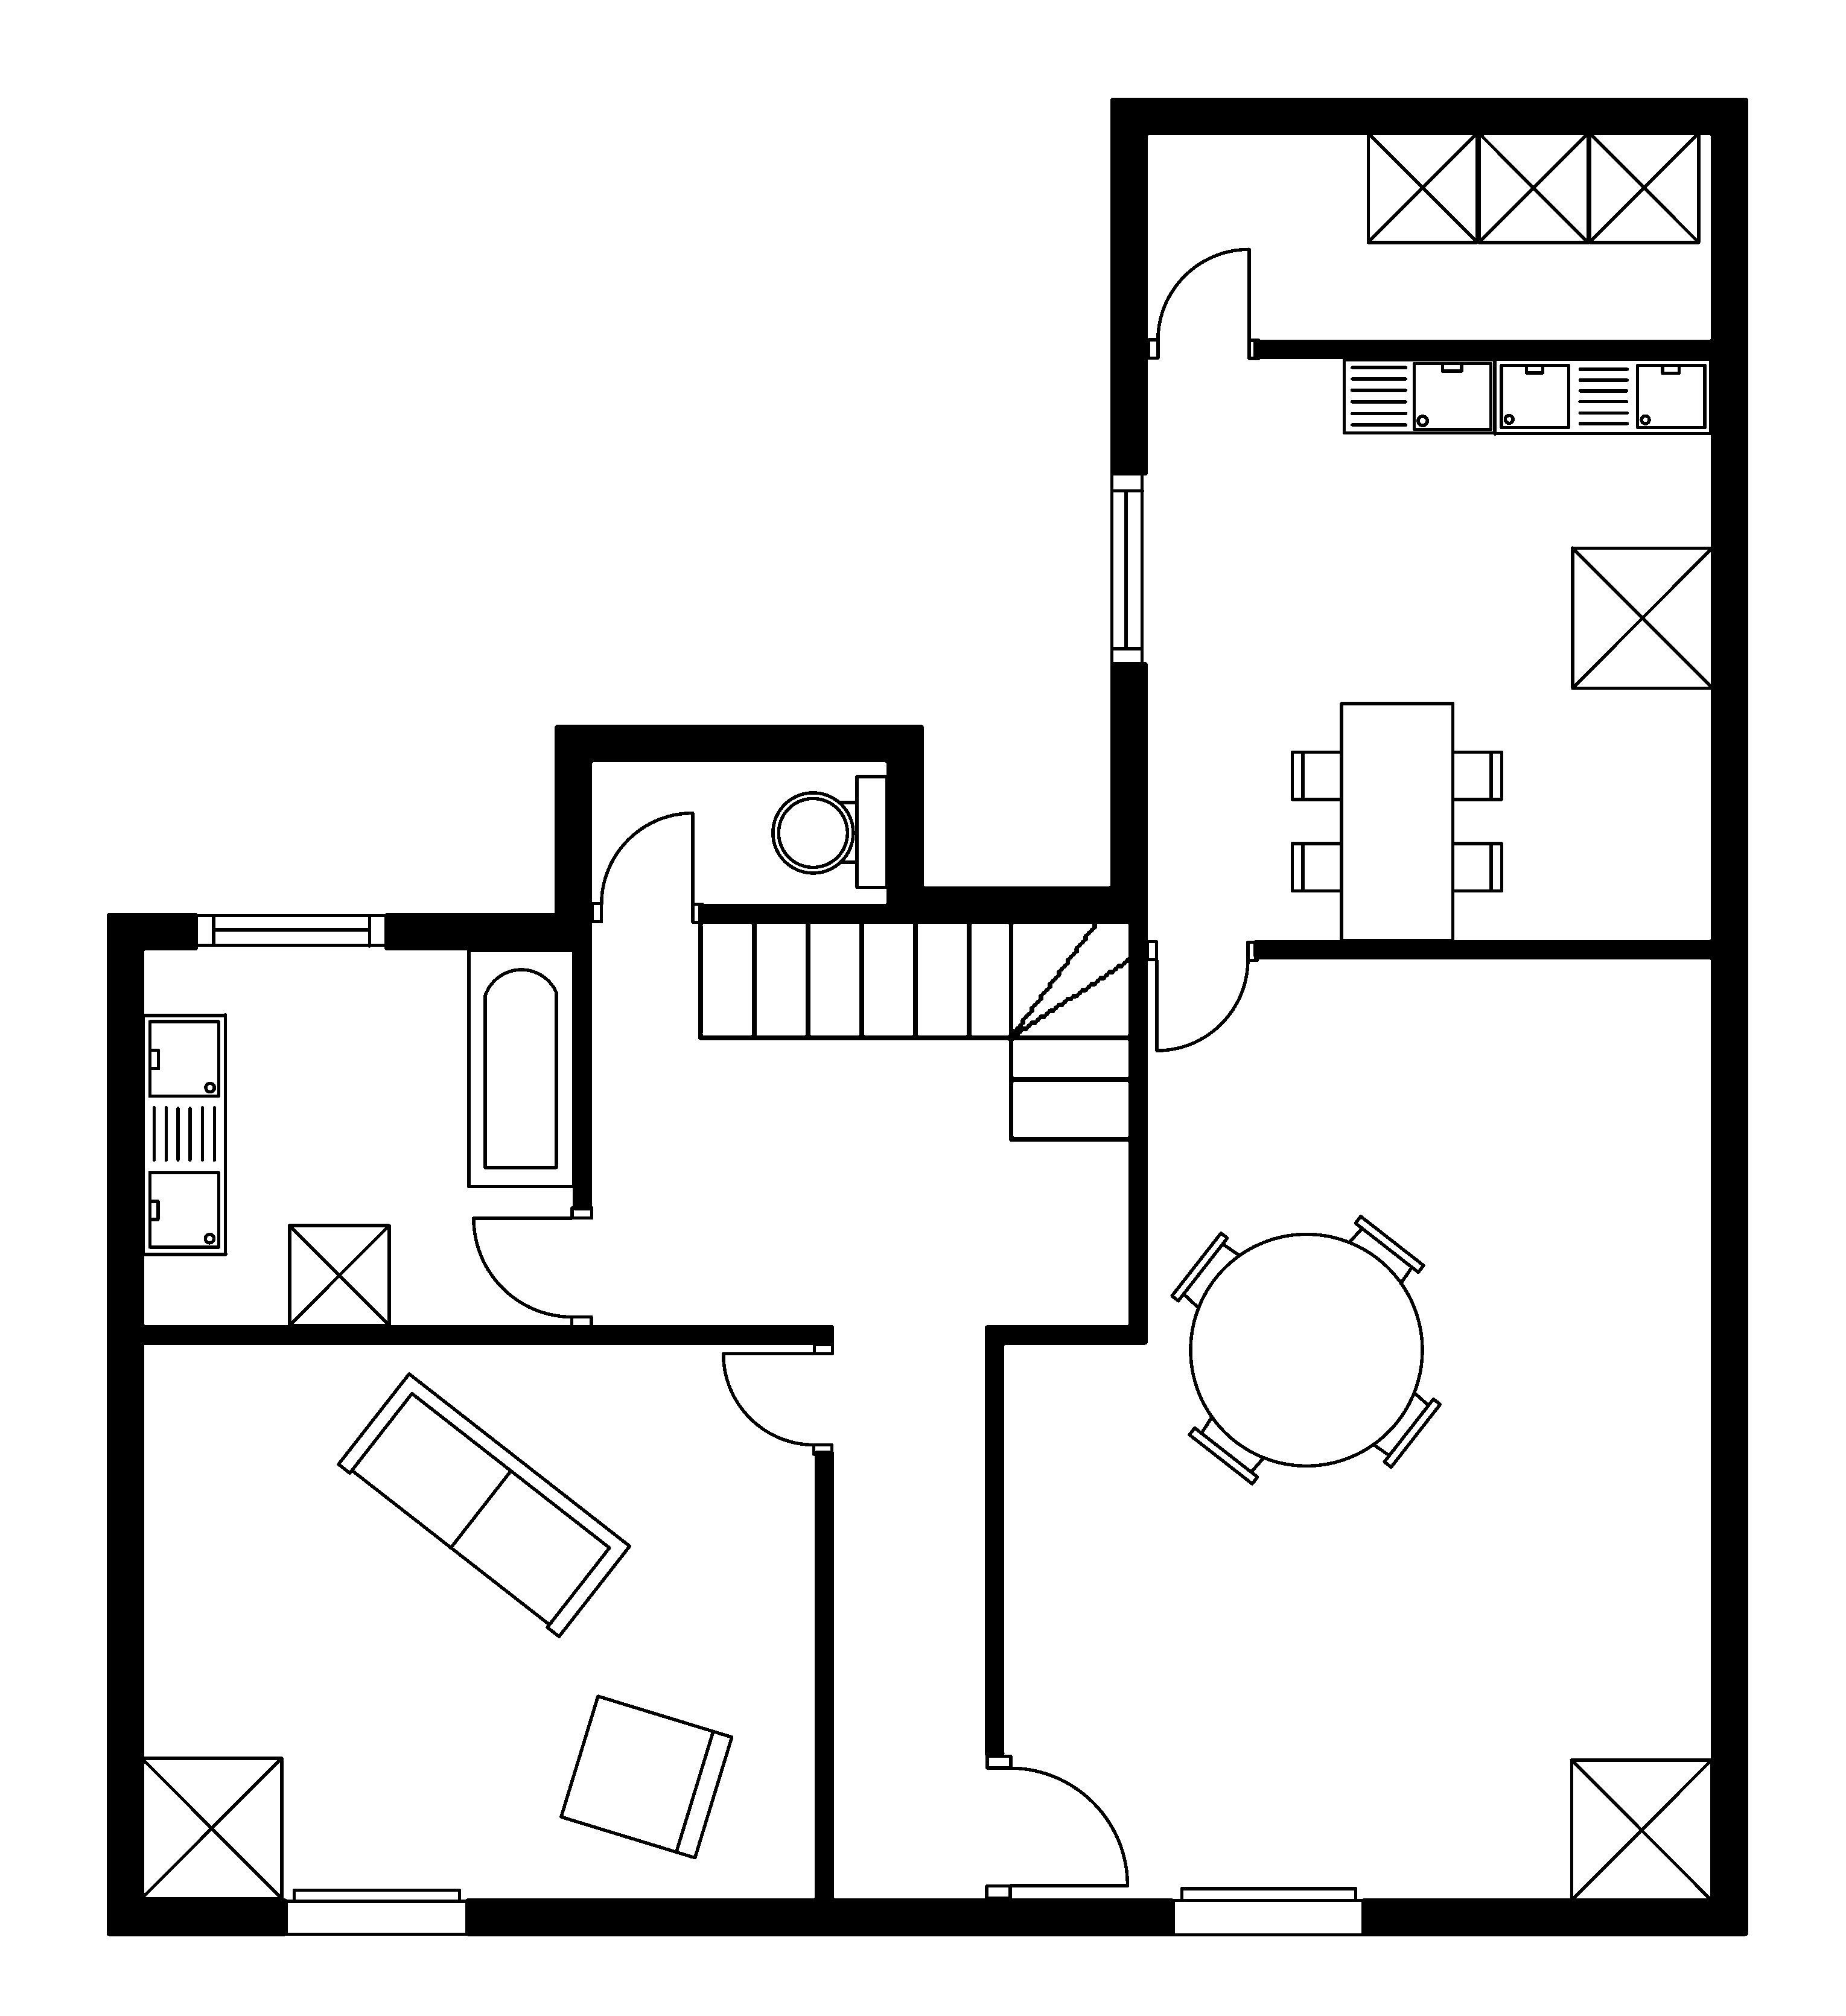coffee_table: (1568, 1756, 1714, 1902), (1568, 544, 1714, 690), (139, 1754, 285, 1900), (1586, 130, 1702, 246), (1475, 130, 1590, 246), (1365, 130, 1479, 246), (286, 1222, 392, 1328)
dining_table: (1289, 701, 1503, 943)
large_sink: (771, 773, 889, 889)
large_sofa: (335, 1370, 632, 1638)
round_table: (1168, 1213, 1442, 1486)
sink: (1340, 356, 1496, 436)
small_sofa: (557, 1693, 734, 1860)
tub: (465, 947, 576, 1189)
twin_sink: (141, 1012, 228, 1257), (1491, 356, 1713, 436)
